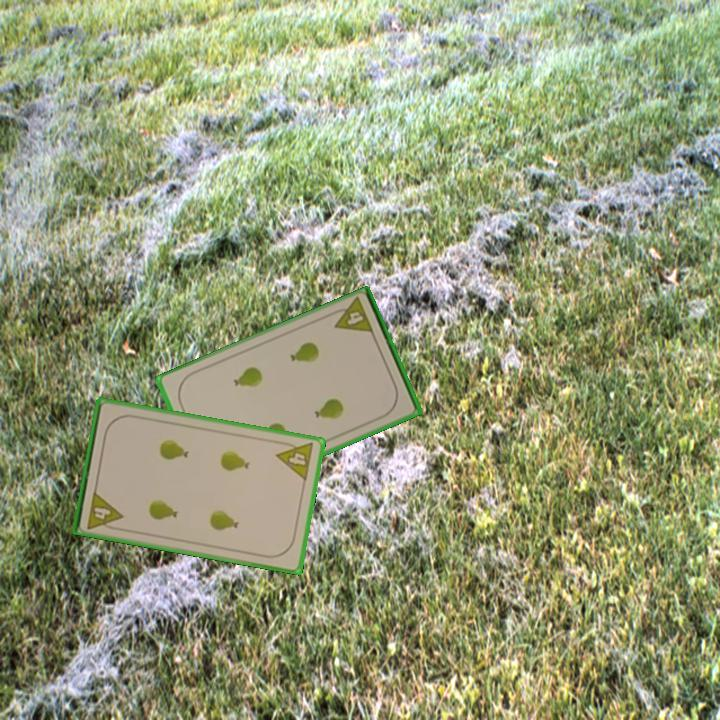4p: (327, 295, 377, 337), (273, 437, 317, 484), (83, 487, 125, 533)
